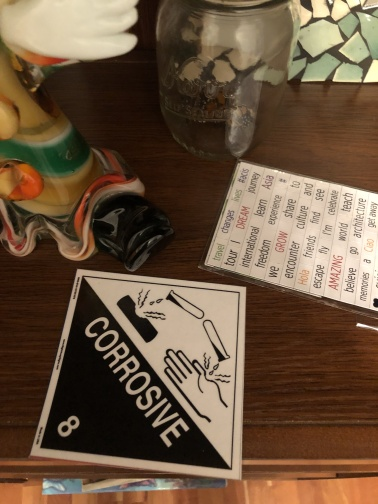Corrosive: (34, 270, 240, 484)
